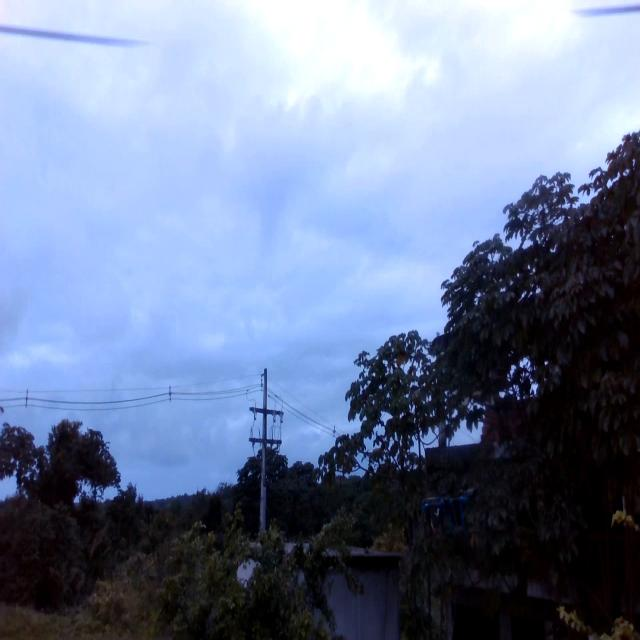-uav-: (418, 484, 474, 548)
